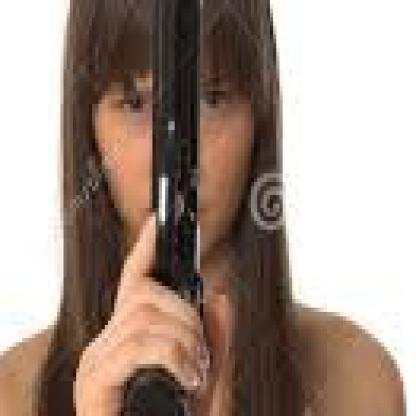gun: (79, 0, 232, 412)
